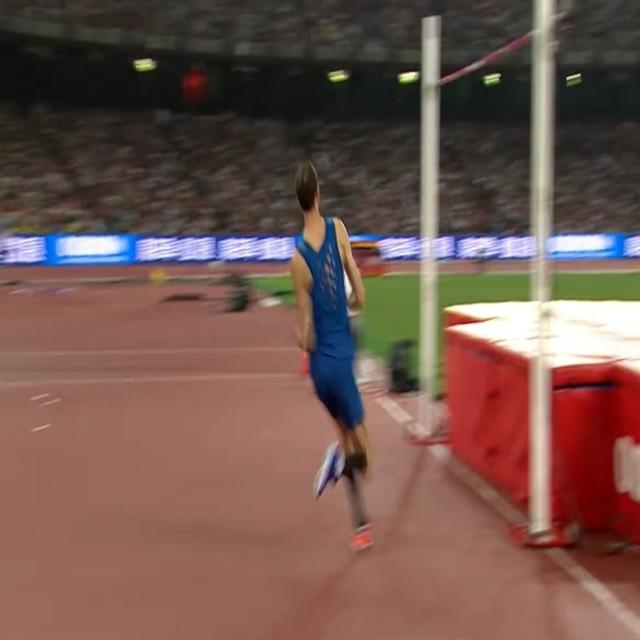run: (287, 156, 375, 556)
